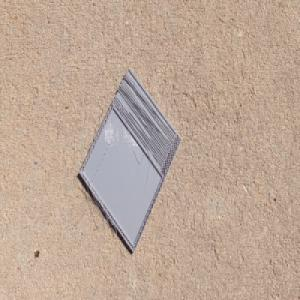PlasticPart: (77, 65, 182, 253)
